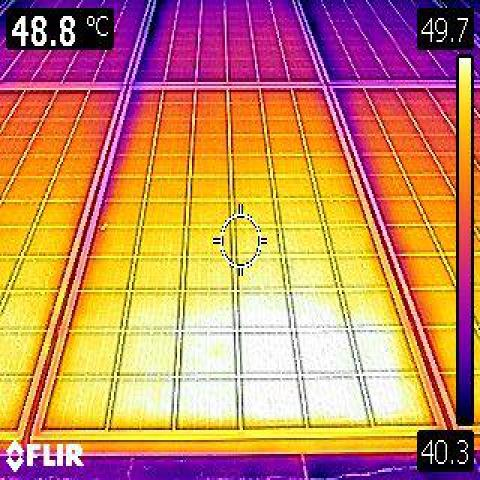fault: (190, 287, 377, 424)
